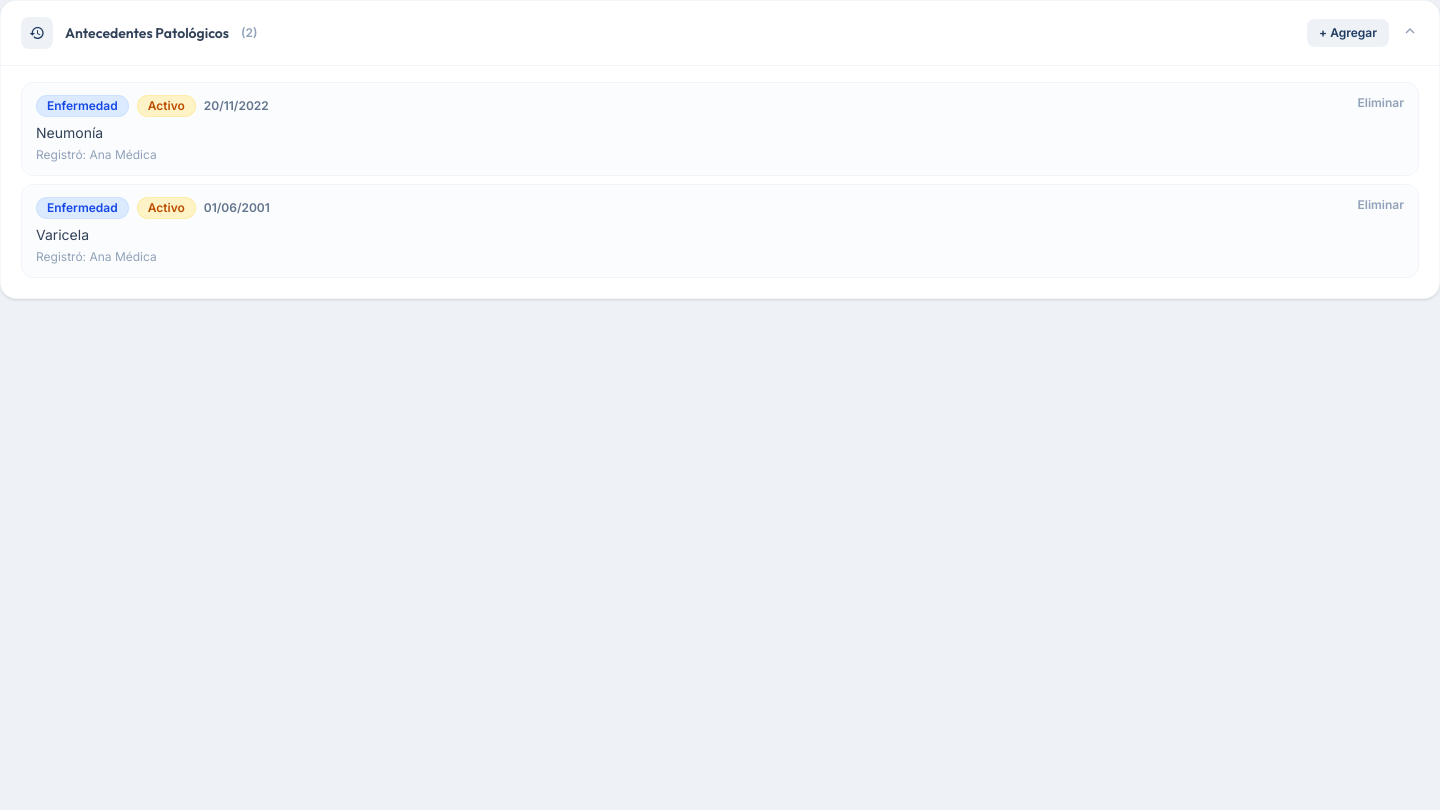
Scenario: HU-12 · antecedentes patológicos › c2: se listan del más reciente al más antiguo, y lo nuevo entra en su lugar
Click the button "+ Agregar".
click(1348, 33)  # box 1307,19 -> 1389,47
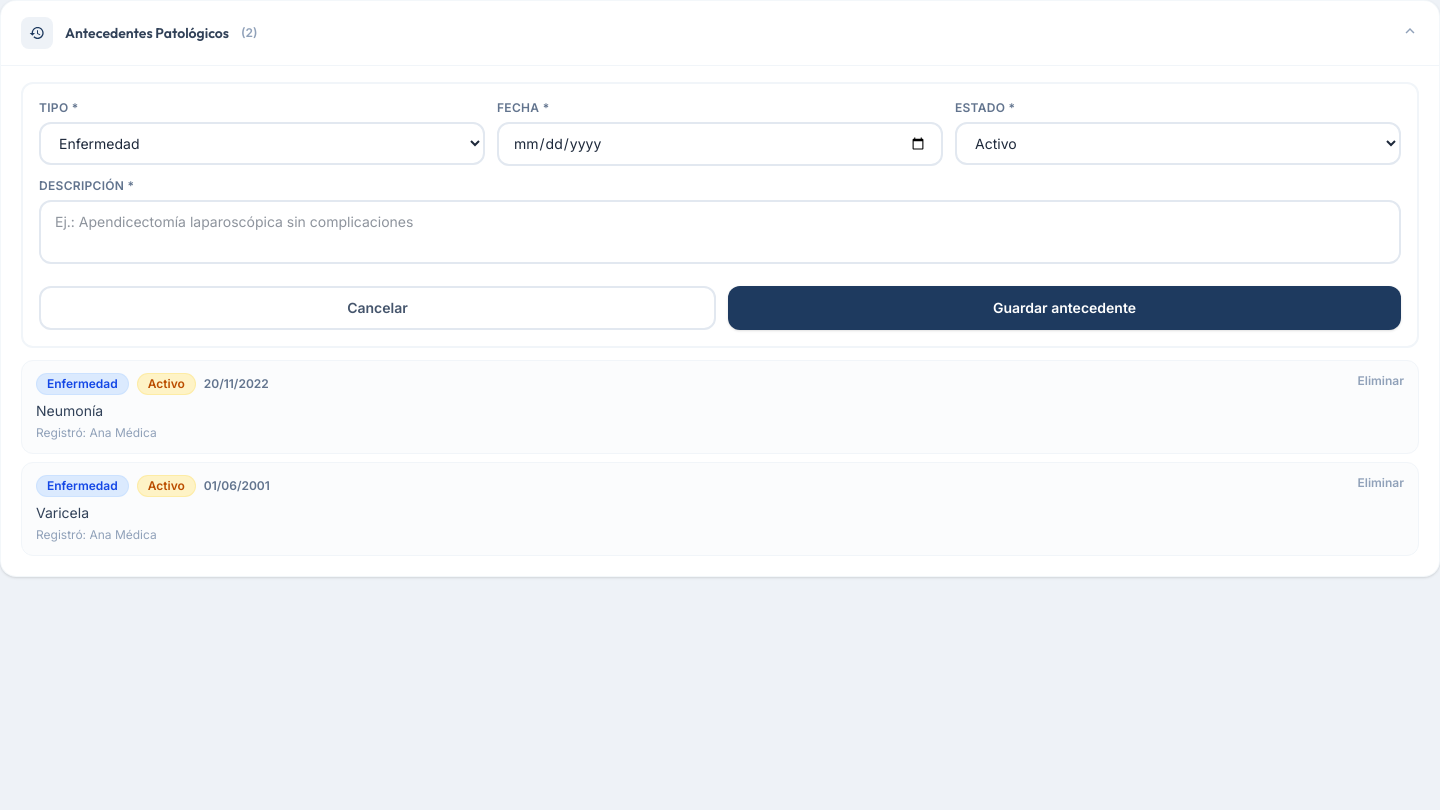
Type "2015-02-10" into the date field labelled "Fecha *".
click(720, 144); type("2015-02-10")  # box 497,122 -> 943,166
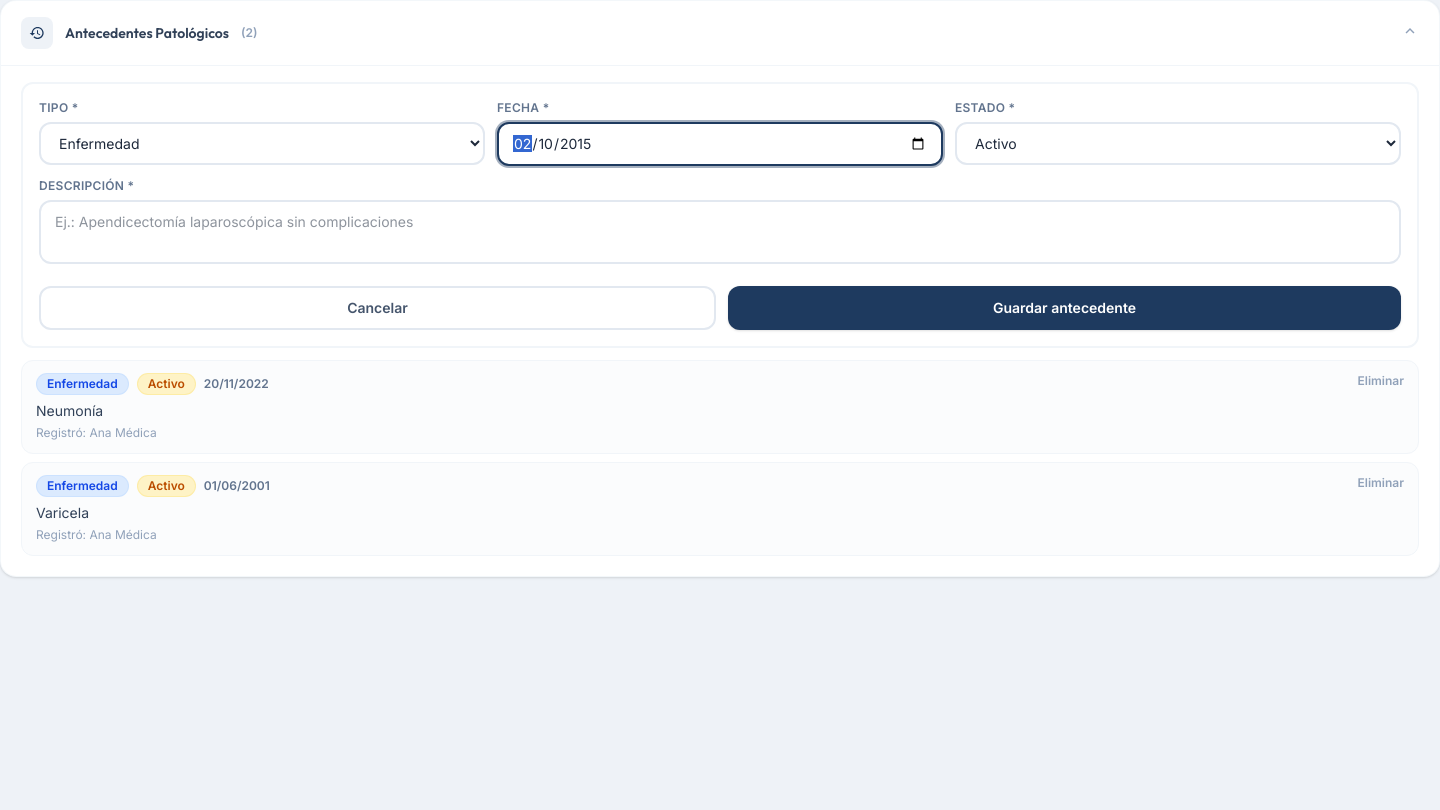
Type "Hipertensión" into the text box labelled "Descripción *".
click(720, 232); type("Hipertensión")  # box 39,200 -> 1401,264
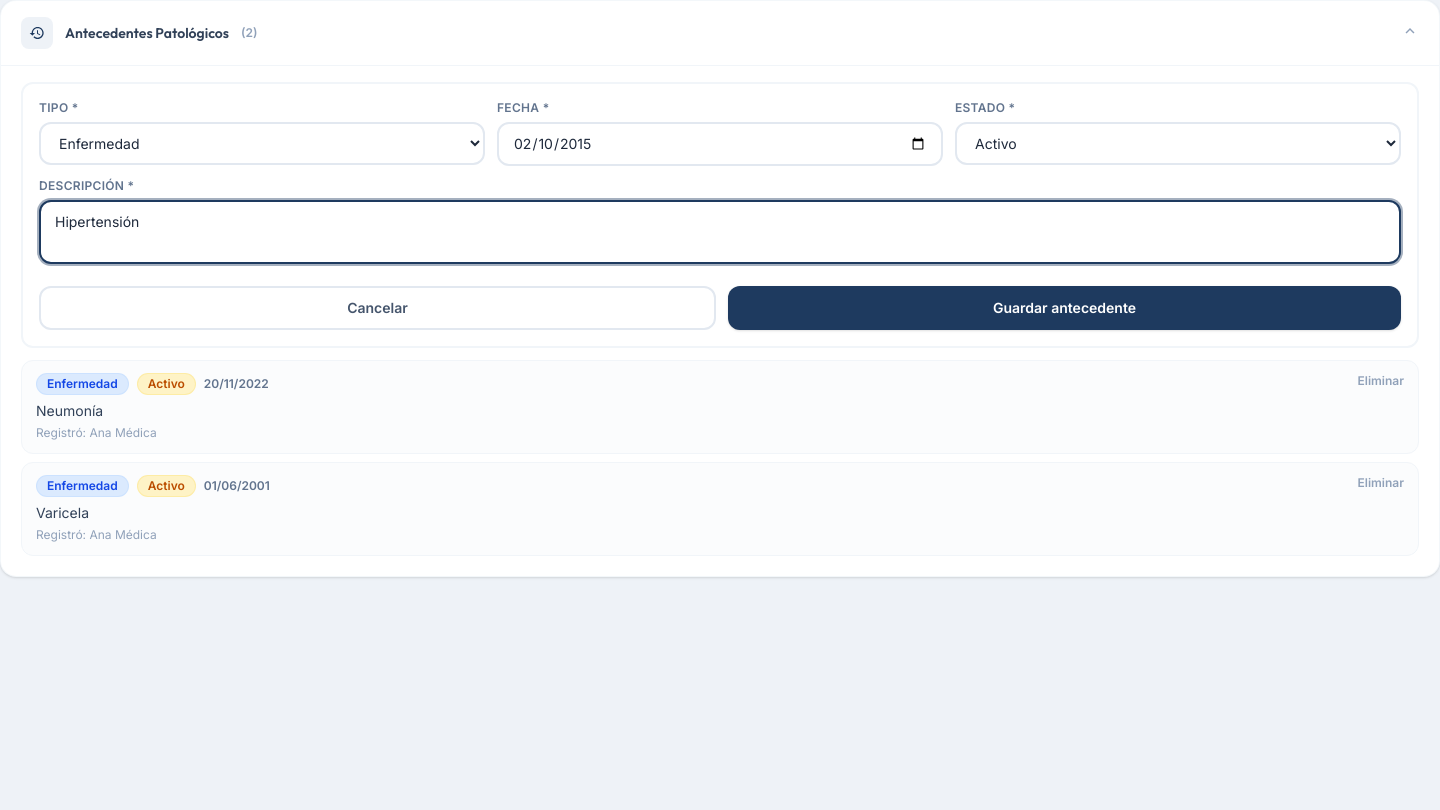
Click the button "Guardar antecedente".
click(1064, 308)  # box 728,286 -> 1401,330
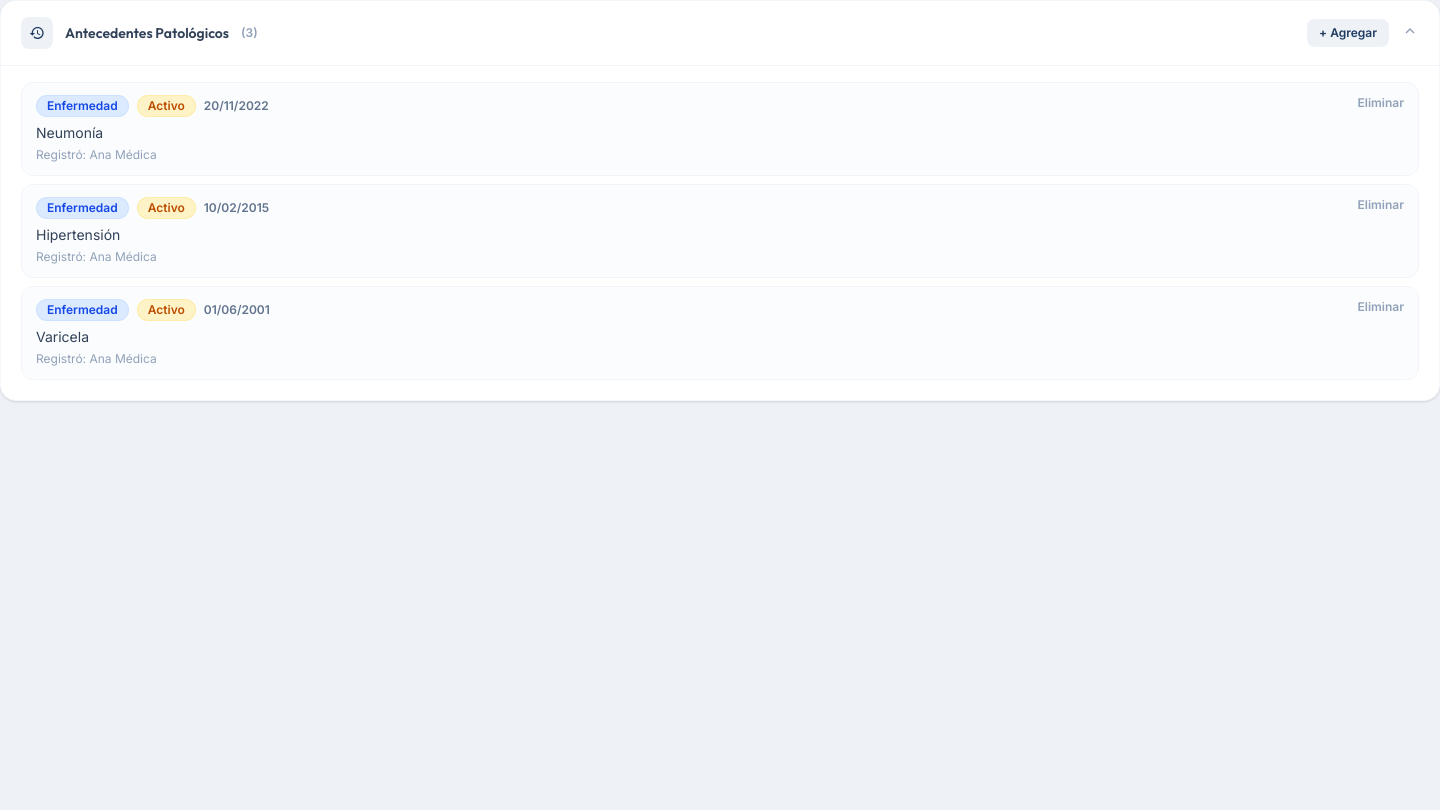
Result: the text "Hipertensión" is shown at 36,226 -> 120,243
